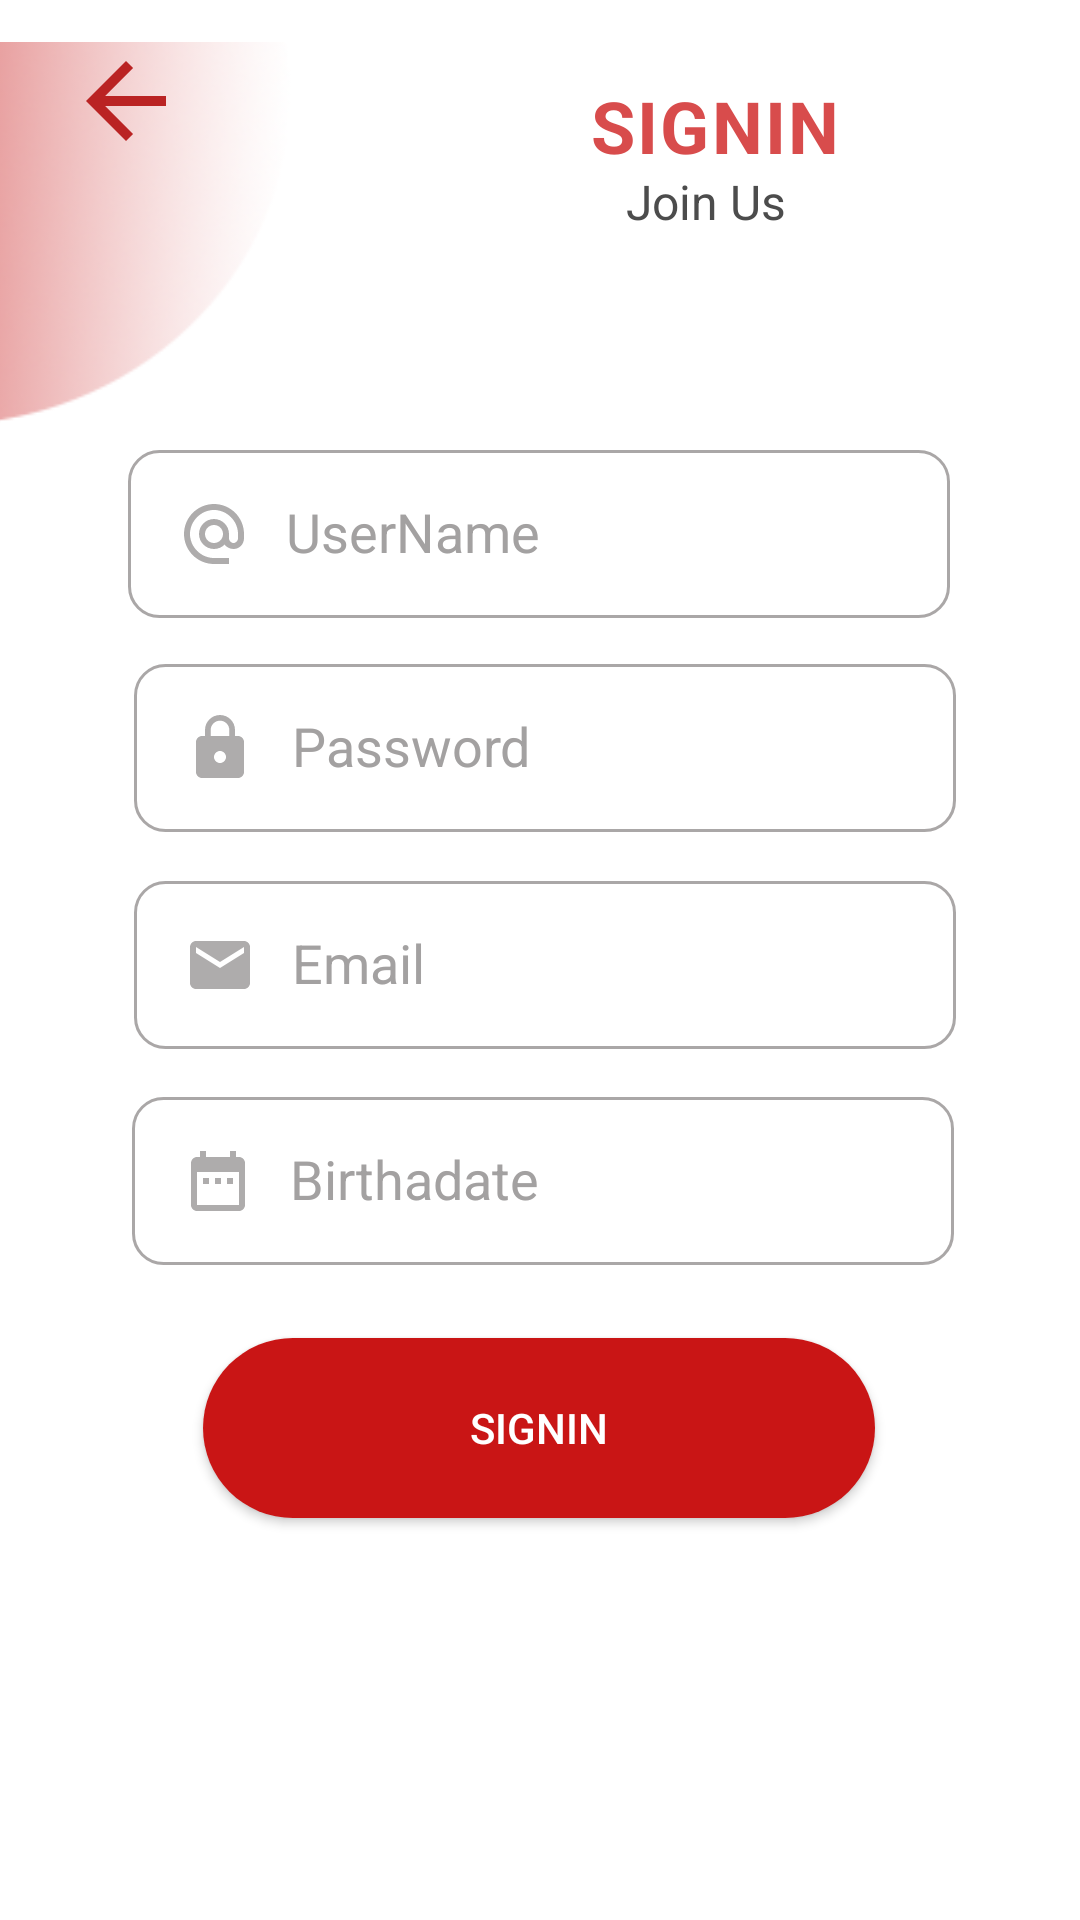

Where to tap for icons on this 1080×1920 app screen, as (x,y):
arrow back: (125,101)
